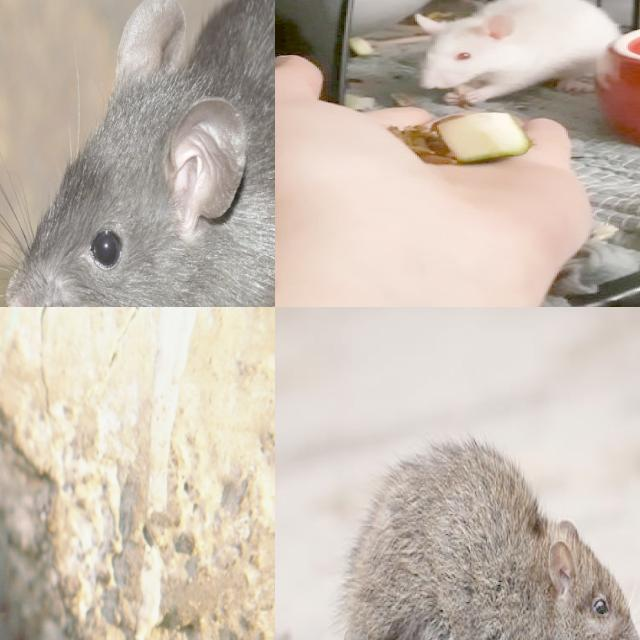rat: (6, 0, 275, 307), (361, 412, 638, 640), (412, 0, 619, 105)
